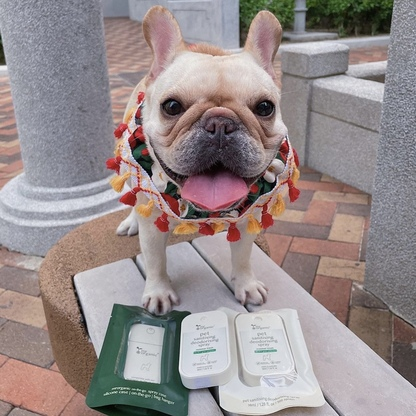bulldog: (107, 5, 292, 315)
